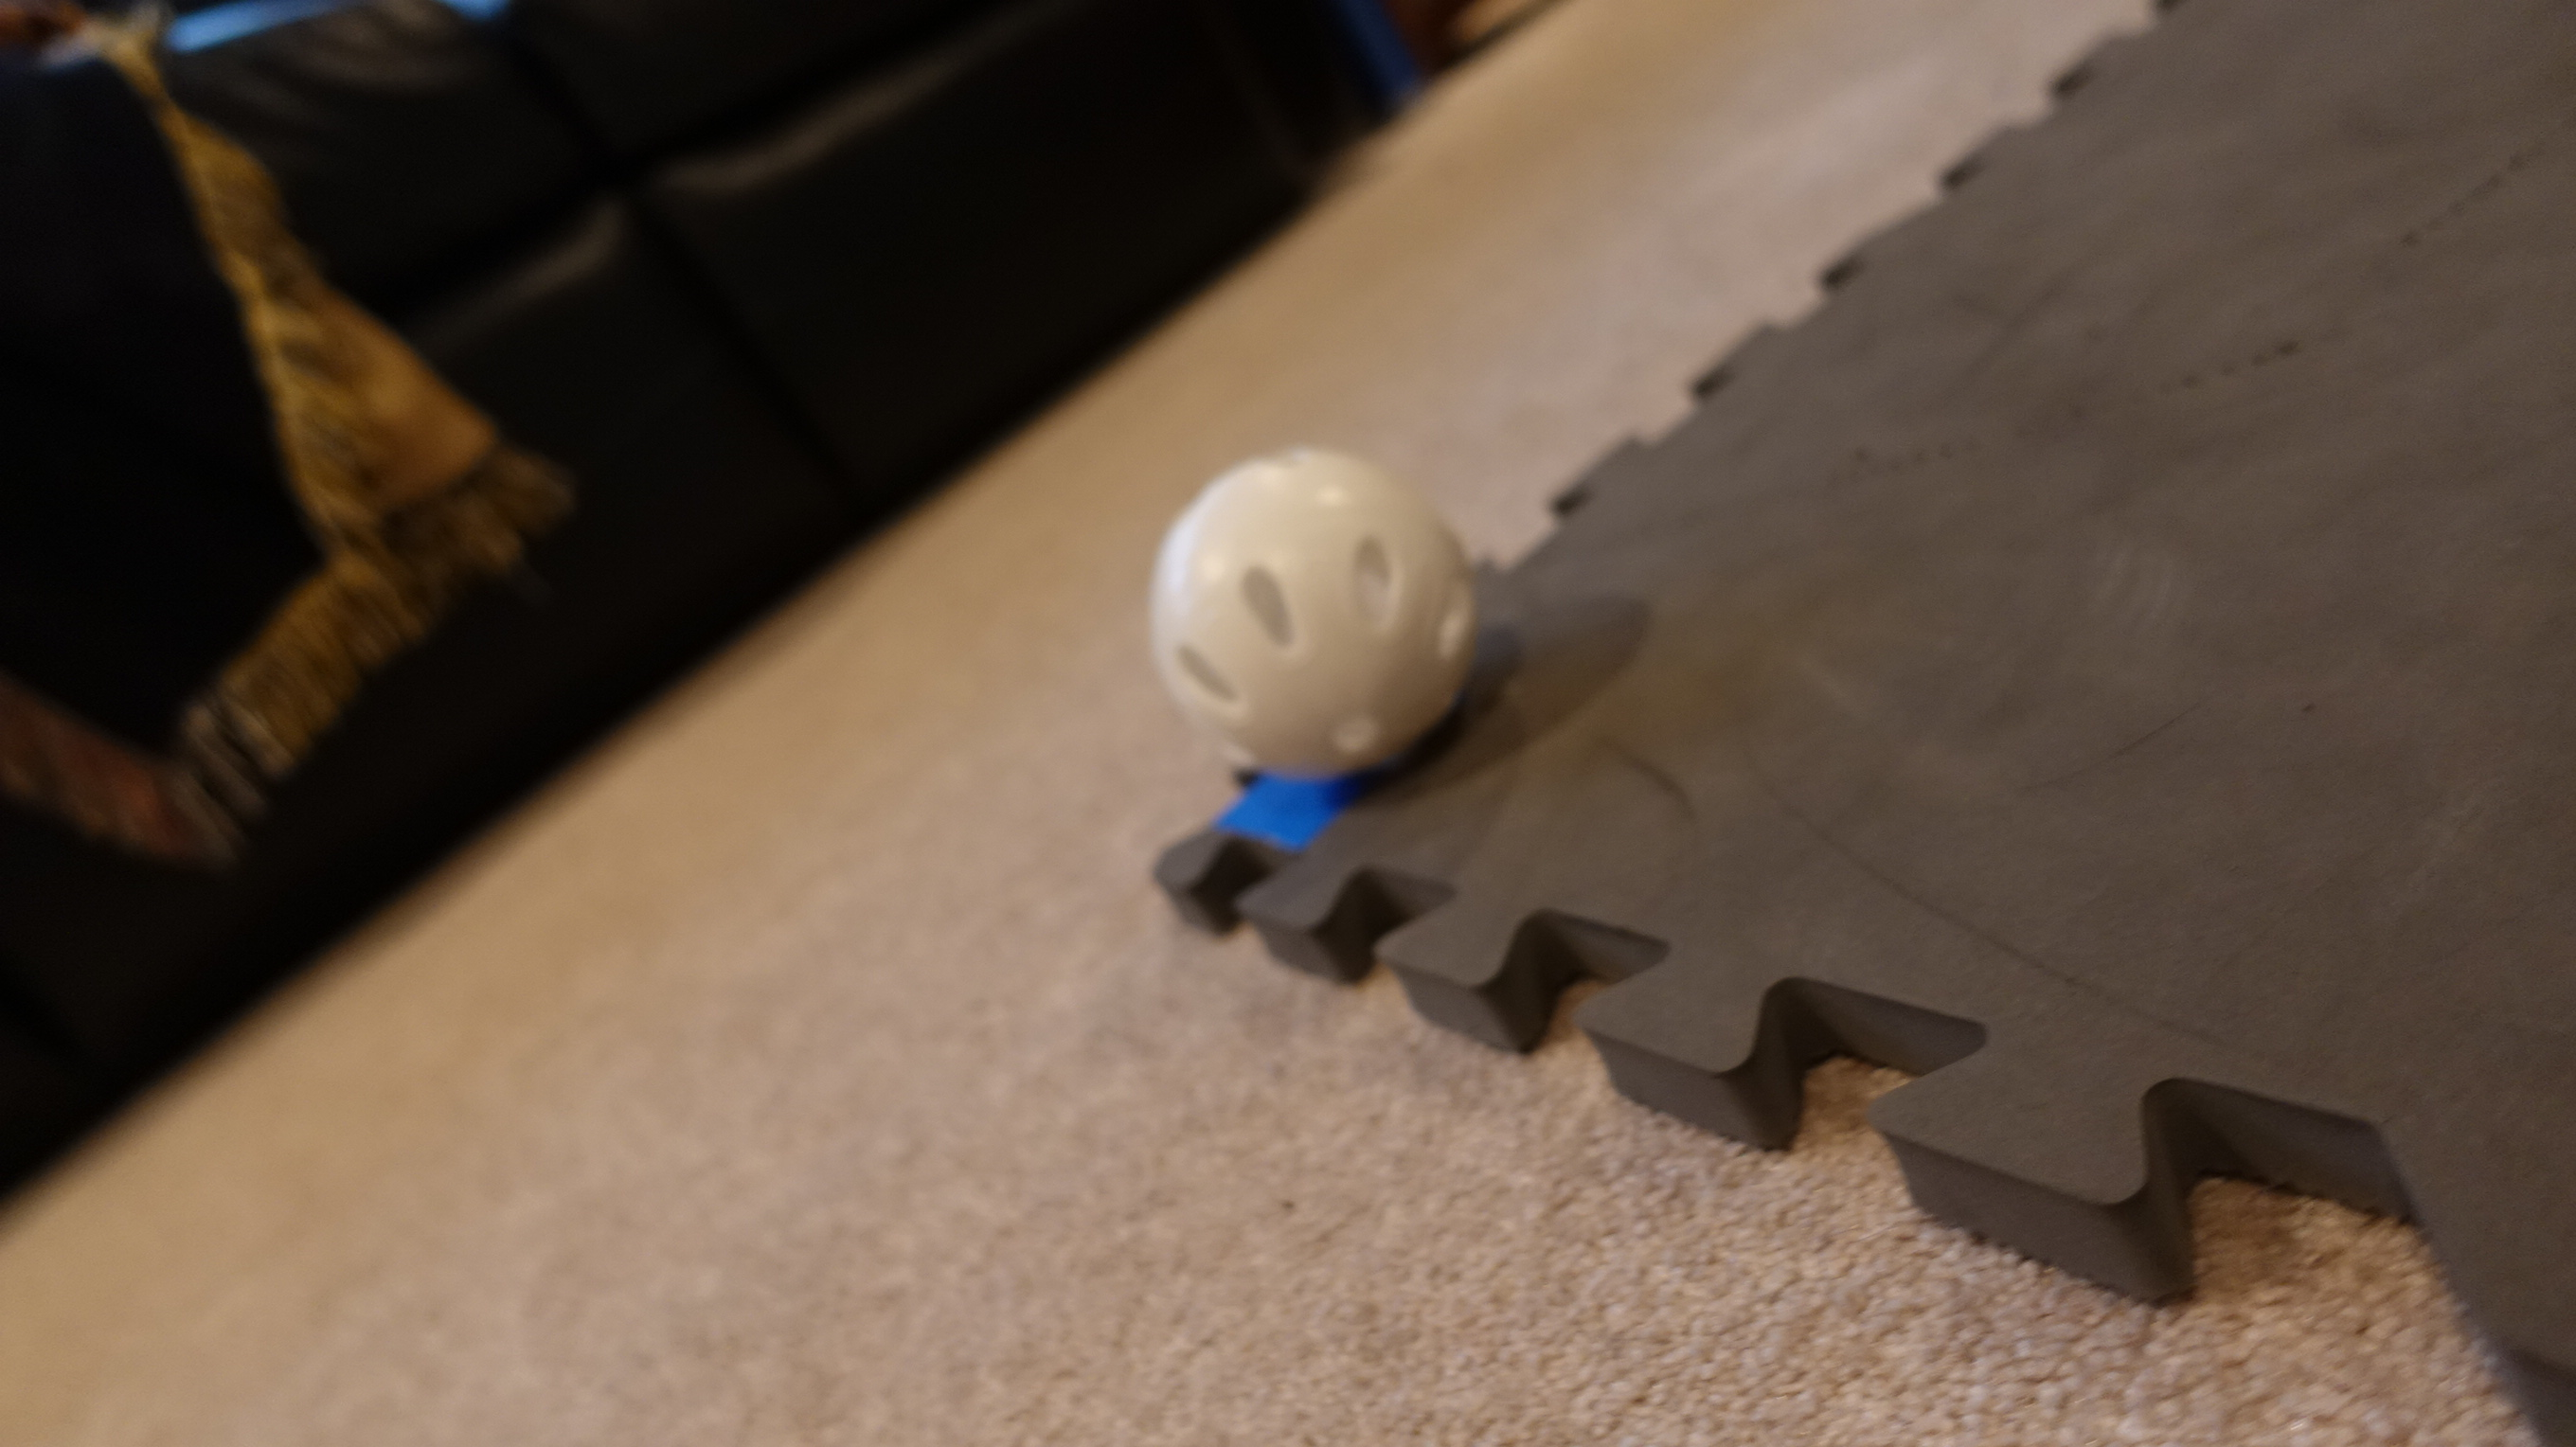silver: (1141, 439, 1481, 784)
